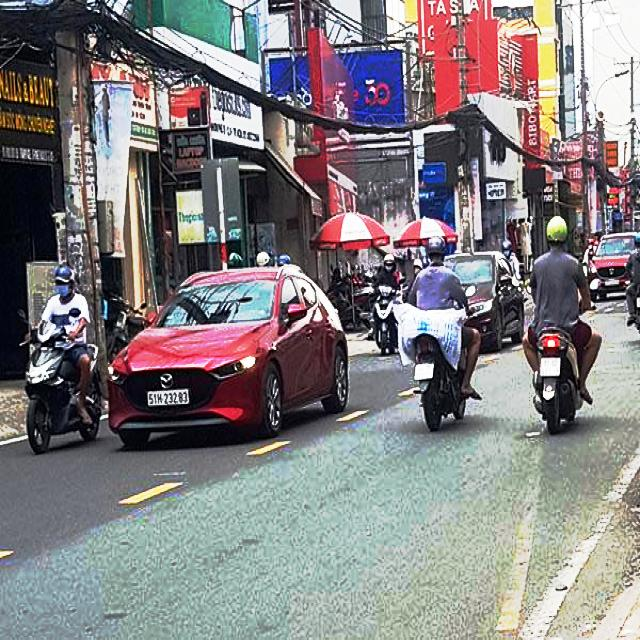license_plate: (149, 389, 191, 407)
